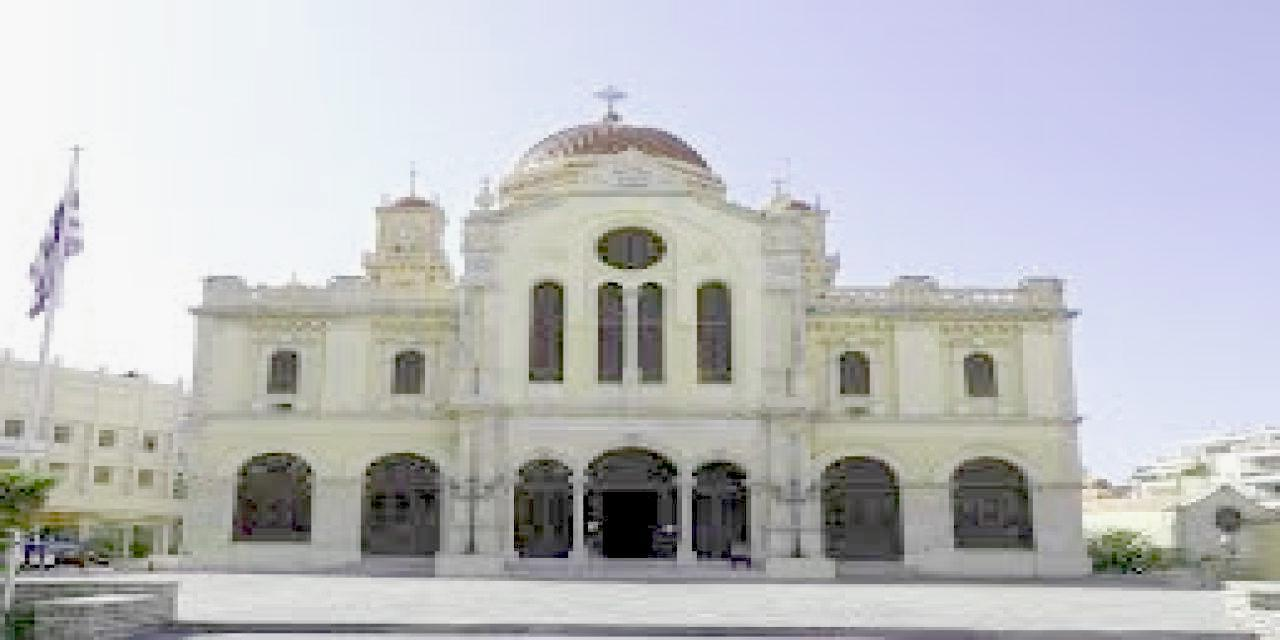Agios Minas: (176, 89, 1080, 573)
